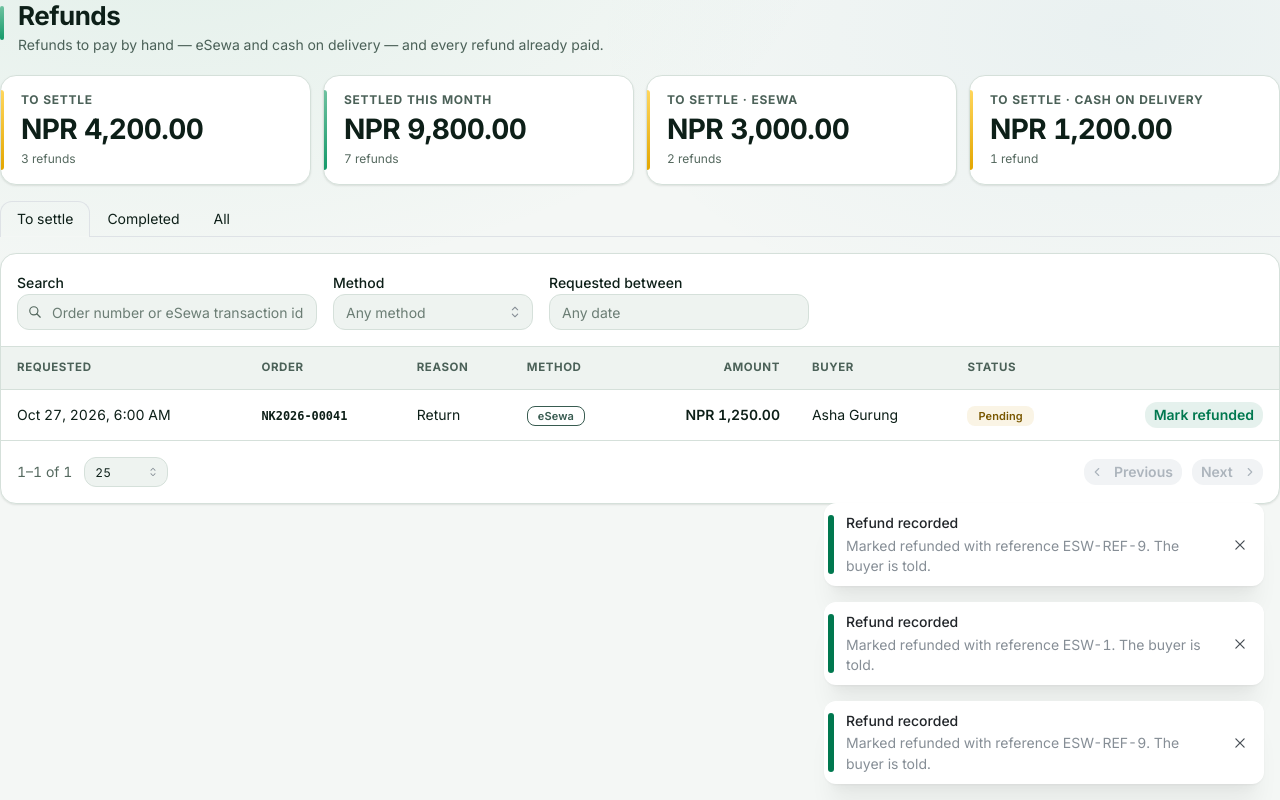
Test: mark refunded › on 409 REFUND_ALREADY_SETTLED toasts, closes and refreshes
This screenshot has width=1280, height=800.
Click the button "Mark refunded" at (1204, 415), box x1=1145 y1=402 x2=1263 y2=428
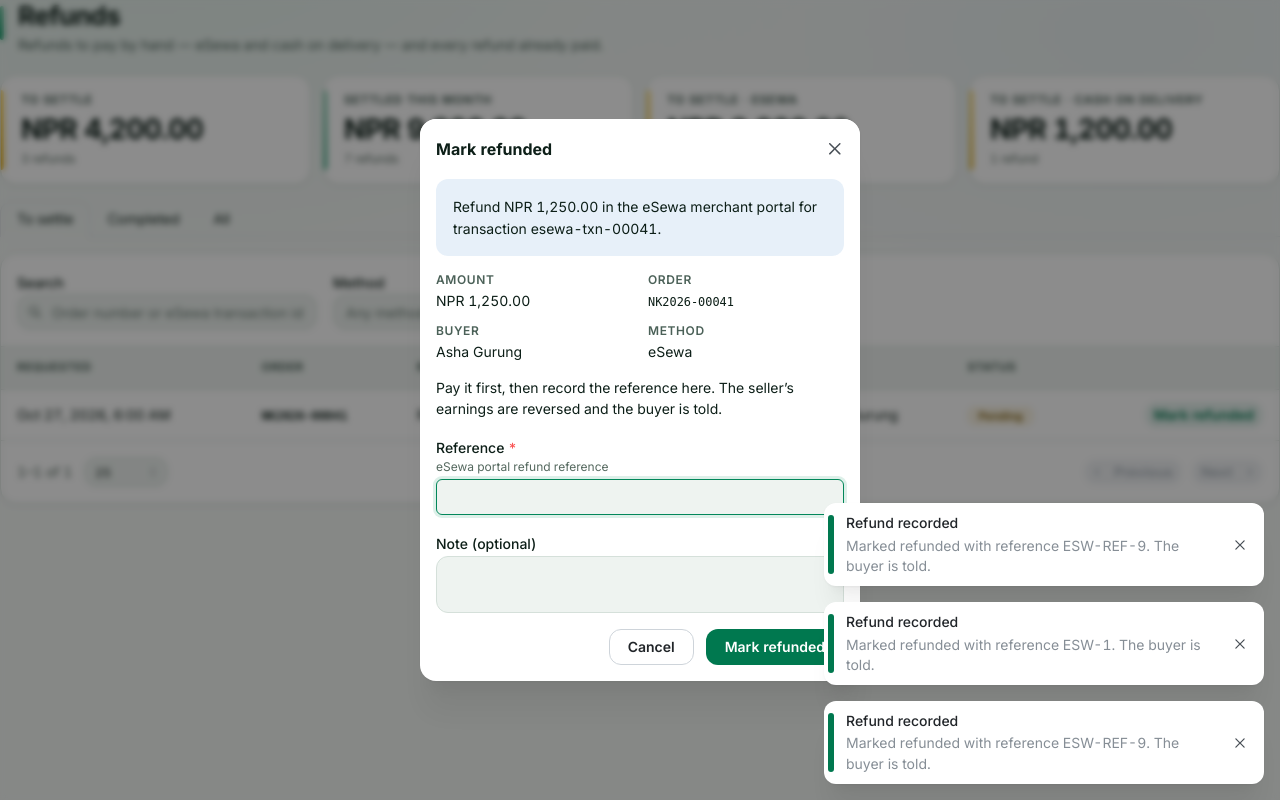
Type "ESW-REF-9" into the field labelled "Reference *" at (640, 497), box x1=436 y1=479 x2=844 y2=515
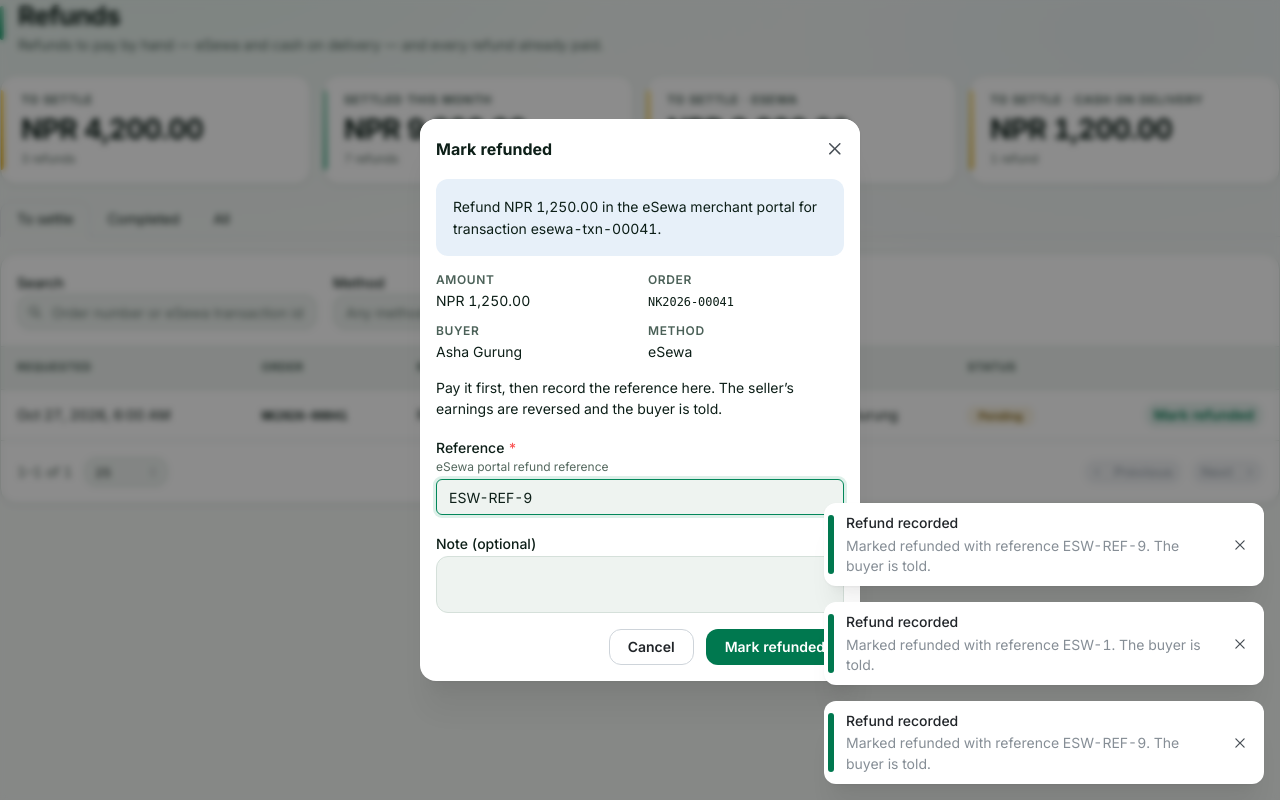
Click the button "Mark refunded" at (775, 647), box x1=706 y1=629 x2=844 y2=665
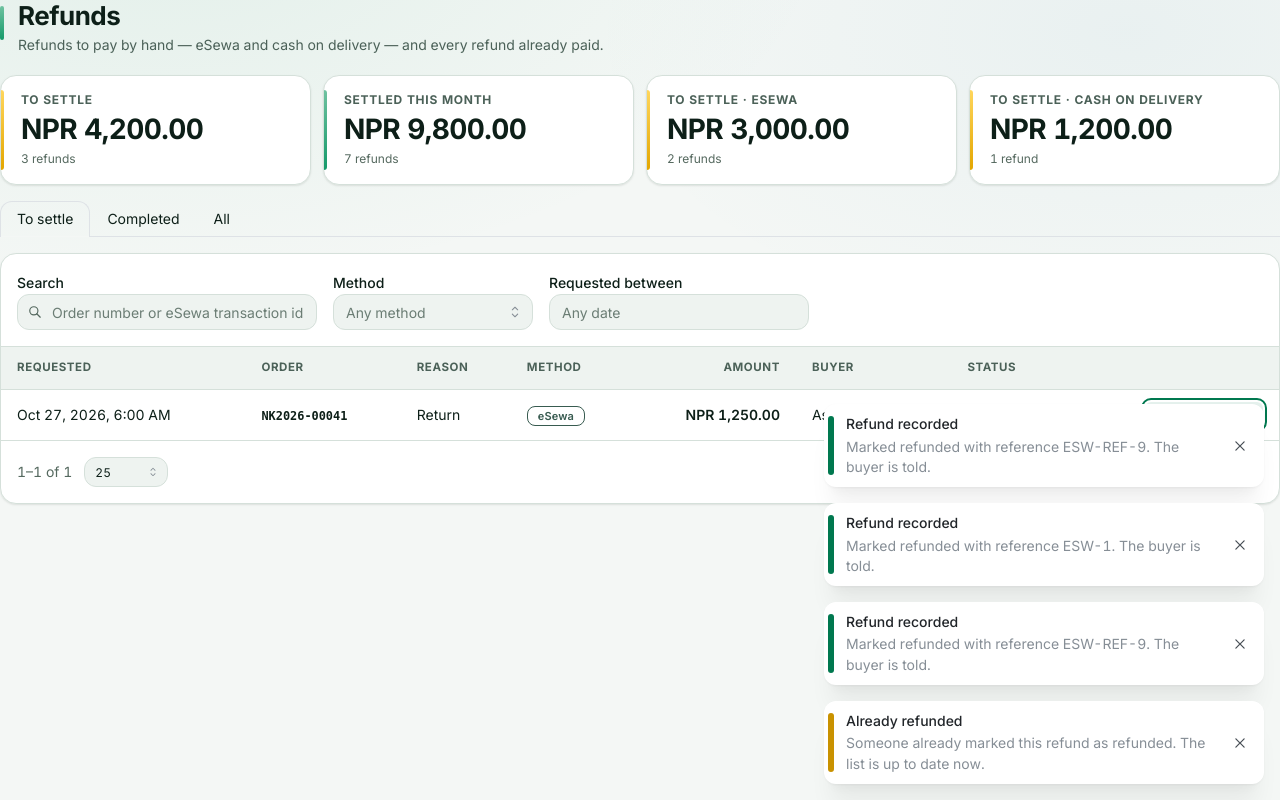
Check: the message with test id "refund-instruction" is gone
